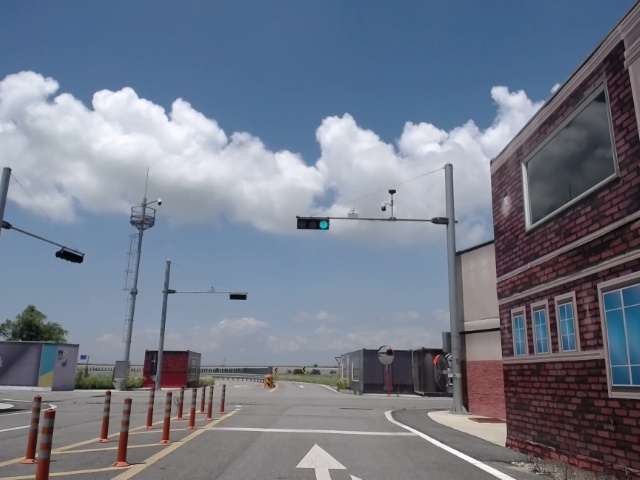green_3: (298, 220, 330, 229)
